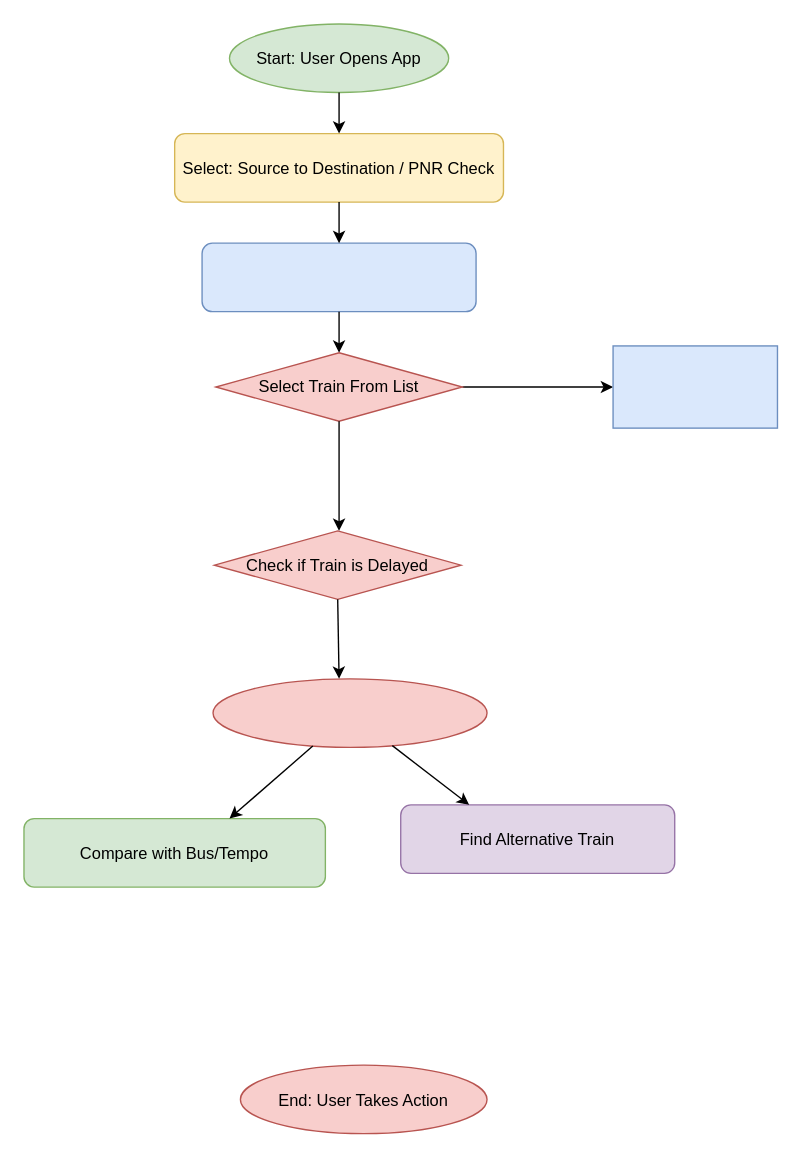
This 801x1158 diagram has some shape labels left out. The centre of each missing label's shape, as x and y in pixels:
"AI Chatbot Guides User" belongs at (x=349, y=712).
"Fetch Train List" belongs at (x=338, y=277).
"Train selected with Live location" belongs at (x=694, y=386).
